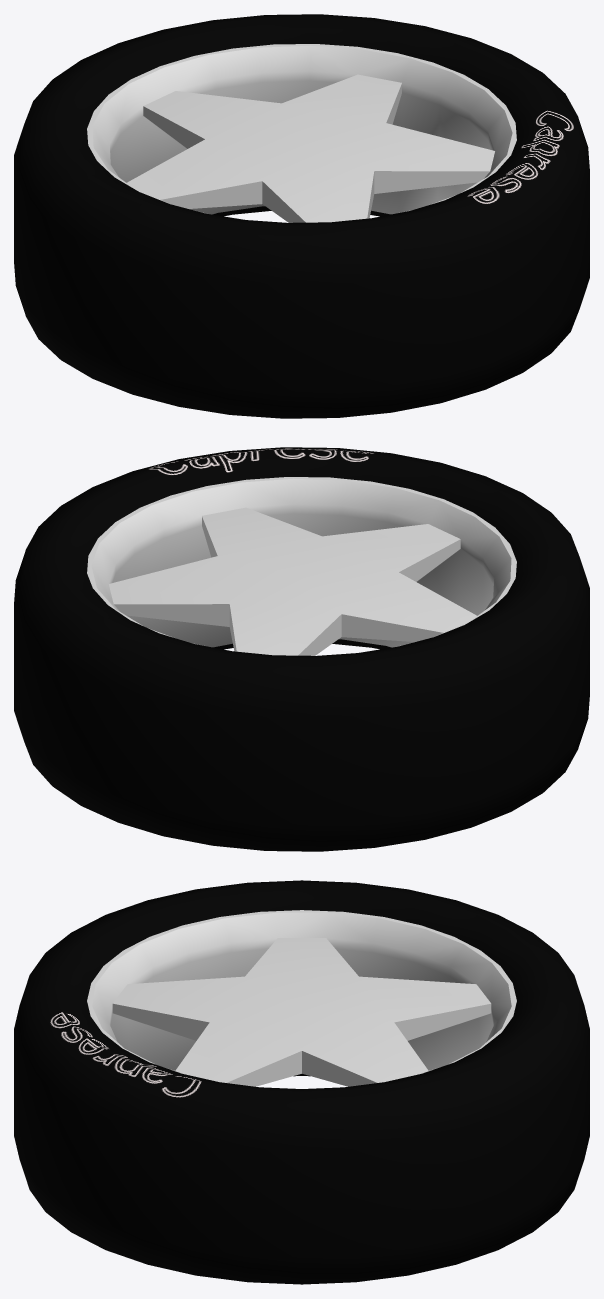
The model's file is MonteriWheel.glb.
3 renders of one model, top to bottom at view 1: azimuth 30°, elevation 25°; view 2: azimuth 150°, elevation 25°; view 3: azimuth 270°, elevation 25°, orthographic.
Visible parts, largest first — view 1: Tyre, Rim; view 2: Tyre, Rim; view 3: Tyre, Rim.
Boxes of the visible parts, x1,y1,x2,y2 form: Tyre: (14,14,589,418); Rim: (87,44,516,222); Tyre: (14,447,589,851); Rim: (87,477,516,655); Tyre: (14,880,589,1284); Rim: (87,910,516,1086).
Size of the model in its own units: 0.6867 by 0.2503 by 0.6867.
3 materials, 3 textured.
